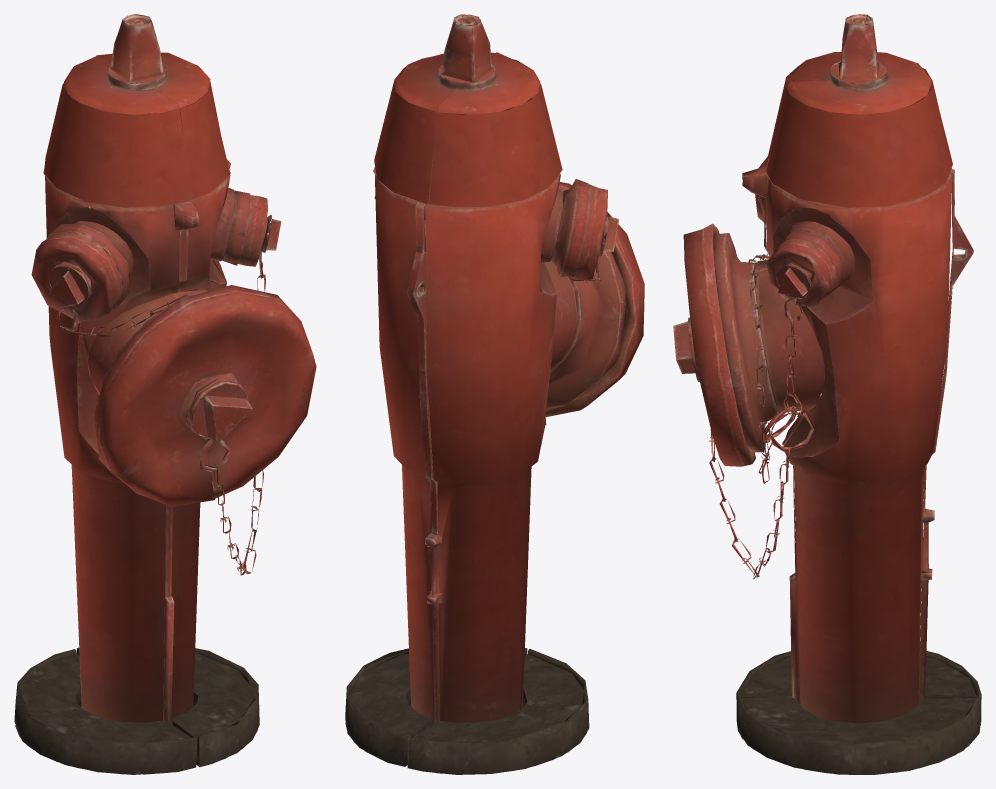
File: hydrant.glb
3 views of the same model, side by side, from view 1: azimuth 30°, elevation 25°; view 2: azimuth 150°, elevation 25°; view 3: azimuth 270°, elevation 25° (orthographic).
Parts seen in each view (by area): view 1: hydrant; view 2: hydrant; view 3: hydrant.
Part boxes in pixels (left/top/right/bottom): hydrant: left=14, top=14, right=316, bottom=774; hydrant: left=345, top=14, right=644, bottom=774; hydrant: left=673, top=14, right=981, bottom=774.
Size of the model in its own units: 0.2742 by 0.8004 by 0.3178.
1 material, 1 textured.
